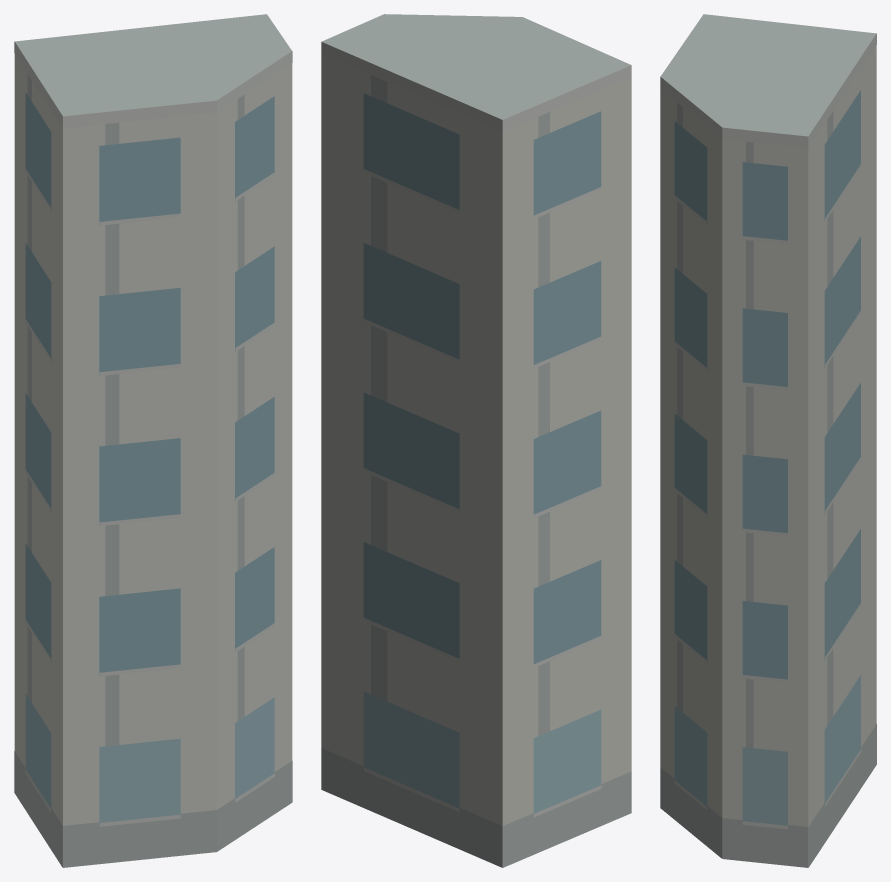
The model's file is survey-upis-32573959.glb.
3 views of the same model, side by side, from view 1: azimuth 30°, elevation 25°; view 2: azimuth 150°, elevation 25°; view 3: azimuth 270°, elevation 25° (orthographic). The views are drawn at different scales.
Parts seen in each view (by area): view 1: survey-upis-32573959.tmp; view 2: survey-upis-32573959.tmp; view 3: survey-upis-32573959.tmp.
Boxes of the visible parts, bbox=[...] form: survey-upis-32573959.tmp: bbox=[14, 14, 292, 867]; survey-upis-32573959.tmp: bbox=[321, 14, 631, 867]; survey-upis-32573959.tmp: bbox=[660, 14, 876, 867].
Bounding box in the file's own units: 5.49 × 15.25 × 4.1.
